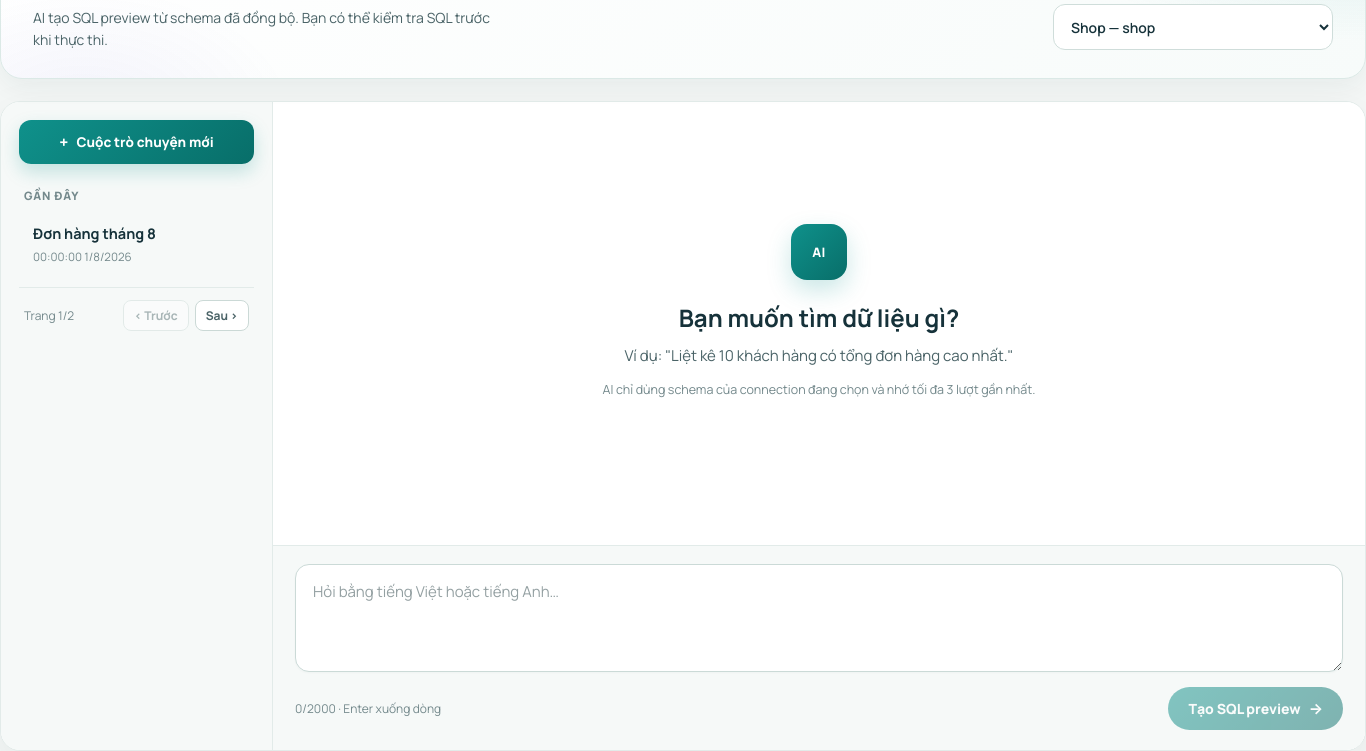
Scenario: ChatPage › lets the user paginate the conversations sidebar
(page scrolled)
Expected: the text "Đơn hàng tháng 8" is shown, [33,224,156,243]
Click the button "Sau ›": point(222, 315) [195,300,249,331]
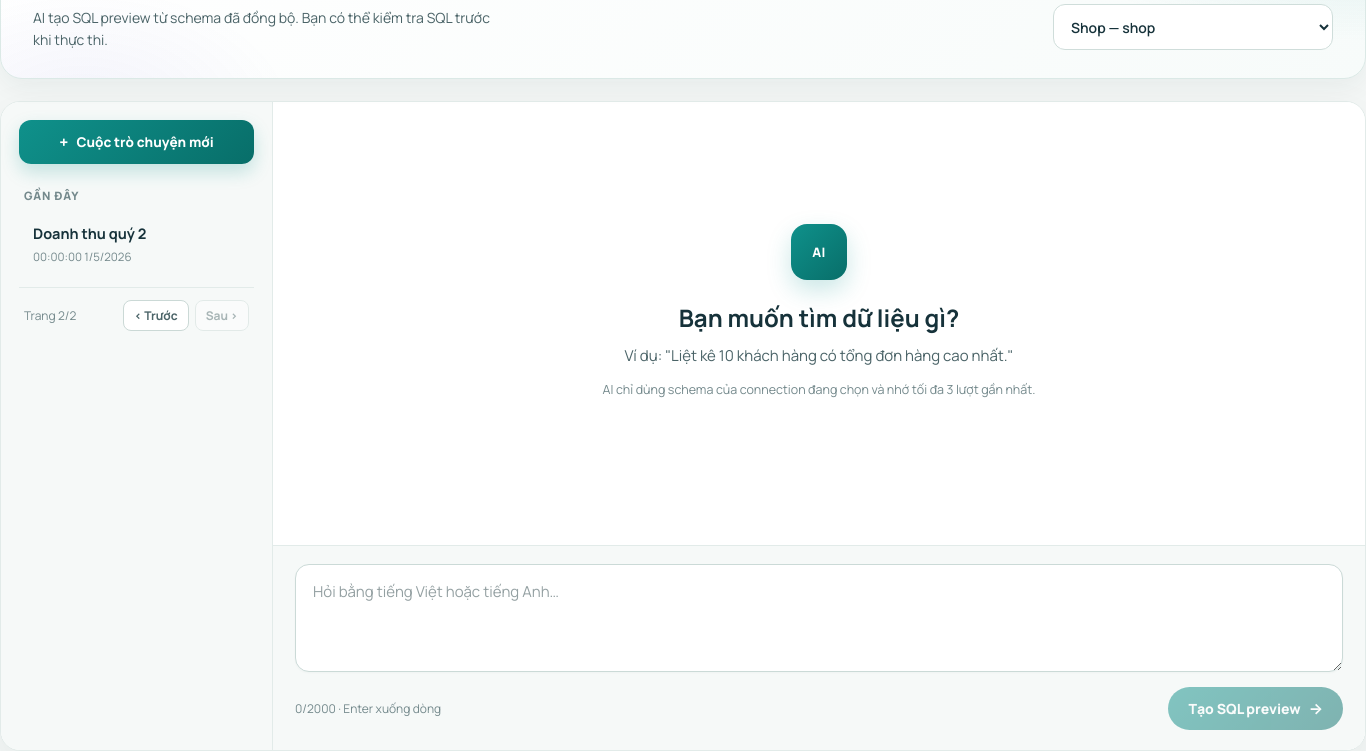
Expected: the text "Doanh thu quý 2" is shown, [33,224,146,243]
